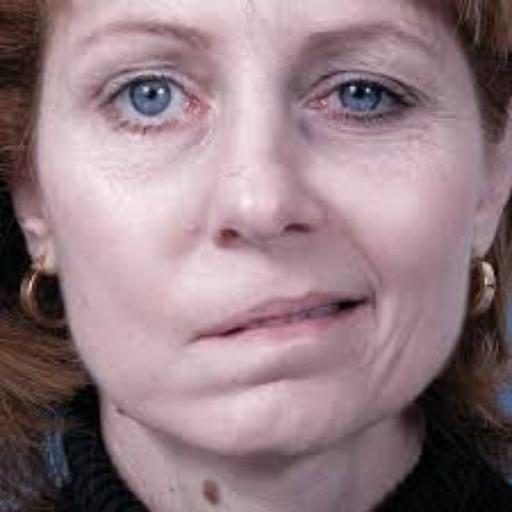left_eye: (302, 76, 425, 123)
left_lip_corner: (346, 290, 380, 318)
right_eye: (96, 74, 206, 130)
right_lip_corner: (187, 320, 235, 351)
